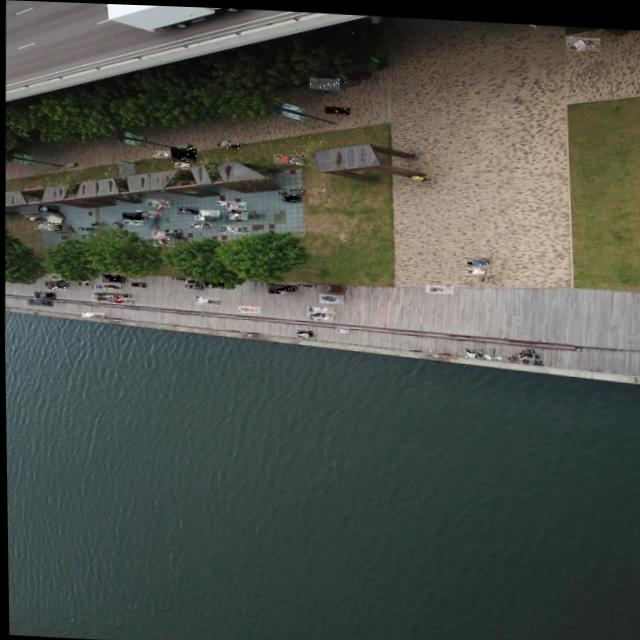Person: (565, 30, 599, 46), (170, 144, 196, 160), (309, 73, 339, 86), (273, 150, 303, 162), (216, 136, 246, 148), (464, 252, 491, 263), (464, 261, 493, 271), (221, 222, 248, 232), (424, 280, 452, 289), (306, 303, 334, 312), (318, 290, 343, 300), (193, 294, 219, 303), (150, 228, 175, 237), (144, 196, 168, 205), (518, 342, 534, 355), (108, 294, 134, 302), (150, 235, 173, 244), (307, 309, 332, 317), (324, 102, 349, 110), (152, 147, 173, 156), (278, 185, 305, 192), (224, 198, 245, 207), (237, 302, 259, 310), (135, 208, 160, 215), (176, 204, 197, 212), (37, 203, 58, 211), (477, 269, 495, 278), (464, 344, 482, 353), (228, 208, 246, 217), (189, 219, 212, 226), (38, 222, 61, 229), (281, 191, 301, 199), (267, 282, 287, 290), (122, 210, 142, 218), (33, 290, 55, 297), (27, 298, 52, 304), (23, 214, 47, 220), (101, 272, 119, 280), (274, 281, 294, 288), (323, 77, 337, 87), (196, 207, 218, 213), (121, 217, 143, 223), (81, 310, 103, 316), (45, 283, 67, 289), (90, 294, 112, 300), (296, 326, 312, 334), (102, 281, 123, 287), (91, 289, 112, 295), (174, 158, 189, 166), (33, 222, 53, 228), (44, 280, 68, 285), (43, 272, 60, 279), (204, 279, 223, 285), (214, 198, 235, 203), (43, 220, 58, 227), (334, 323, 348, 330), (76, 279, 92, 285), (109, 291, 131, 295), (130, 280, 145, 285), (224, 206, 242, 210), (77, 225, 94, 229), (145, 212, 158, 217), (91, 283, 107, 287), (193, 213, 203, 218), (200, 213, 208, 218), (56, 277, 66, 280), (101, 278, 111, 280)
